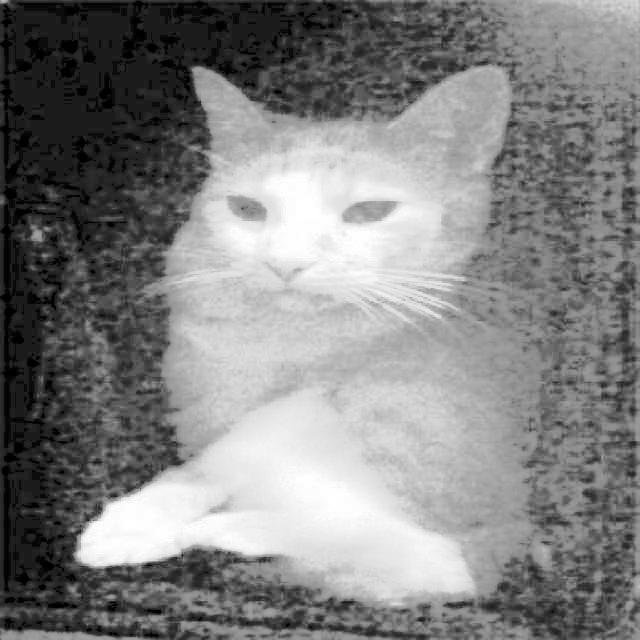Cat: (77, 50, 590, 609)
